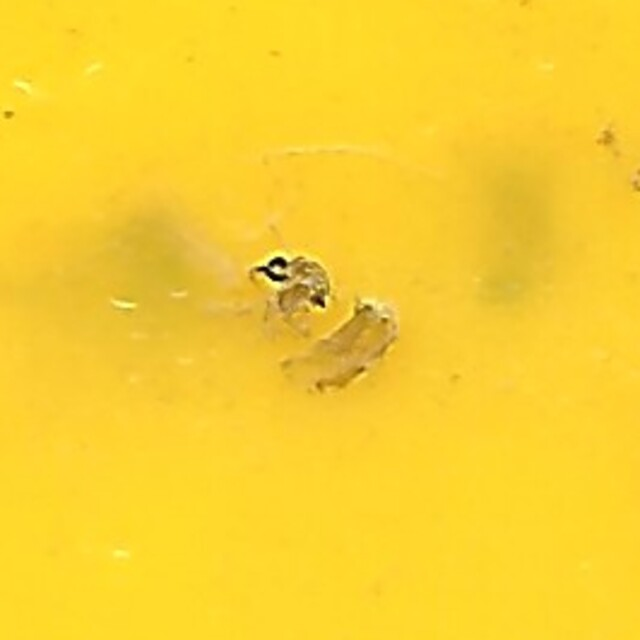Nematocera: (241, 242, 399, 398)
